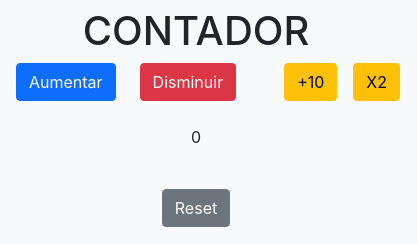
Test: buttons function › when press sumar10, the counter must add 10
The width and height of the screenshot is (417, 244).
Click the button with test id "sumar10" at coordinates (311, 82), box [284, 63, 337, 101]
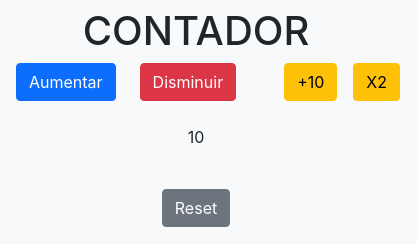
expect the text with test id "contador" reads "10": met, box [188, 127, 204, 147]
